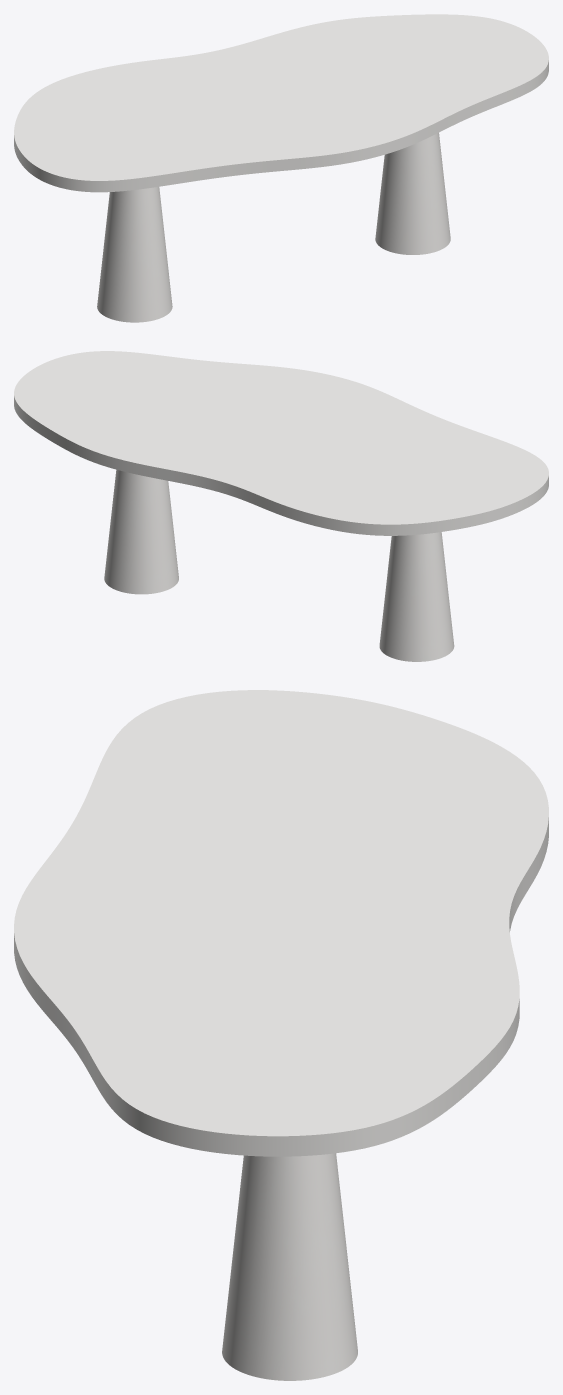
Rendered from purewhite_toplast_standard_pebble.glb.
3 renders of one model, top to bottom at view 1: azimuth 30°, elevation 25°; view 2: azimuth 150°, elevation 25°; view 3: azimuth 270°, elevation 25°, orthographic. The views are drawn at different scales.
Parts seen in each view (by area): view 1: standard_toplast, pebble; view 2: standard_toplast, pebble; view 3: standard_toplast, pebble.
Part boxes in pixels (x1,y1,x2,y2): standard_toplast: (14, 14, 548, 192); pebble: (97, 133, 450, 322); standard_toplast: (14, 351, 548, 535); pebble: (104, 469, 454, 661); standard_toplast: (14, 690, 548, 1156); pebble: (222, 1153, 357, 1380).
Bounding box in the file's own units: 7.5 × 2.5 × 3.8.
1 material, 1 textured.
